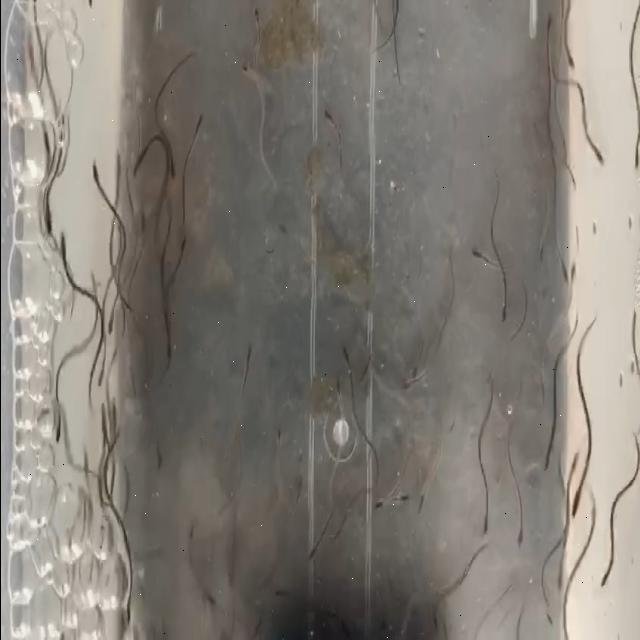active_glass_eel: (329, 326, 357, 374), (264, 410, 288, 466), (234, 328, 259, 376), (536, 438, 556, 496), (398, 354, 420, 404), (124, 138, 142, 198), (266, 574, 288, 622), (172, 226, 194, 274), (512, 518, 533, 568), (42, 206, 58, 270), (590, 131, 606, 194), (245, 4, 272, 40), (54, 222, 74, 270), (51, 395, 65, 459), (106, 388, 120, 451), (414, 480, 434, 524), (463, 238, 482, 284), (626, 136, 640, 198), (236, 44, 253, 95), (157, 326, 175, 374), (494, 290, 512, 336), (477, 496, 492, 548), (302, 540, 321, 580), (556, 246, 574, 288), (424, 597, 442, 639), (370, 484, 388, 526), (318, 102, 336, 144), (592, 562, 612, 598), (120, 585, 136, 627), (541, 9, 557, 50), (102, 315, 117, 355), (150, 446, 167, 480), (563, 44, 577, 84), (564, 490, 580, 524), (90, 368, 108, 398), (165, 146, 177, 190), (188, 105, 204, 136), (84, 157, 100, 188), (36, 127, 52, 157), (566, 446, 582, 474), (96, 393, 108, 430), (534, 244, 546, 276)
